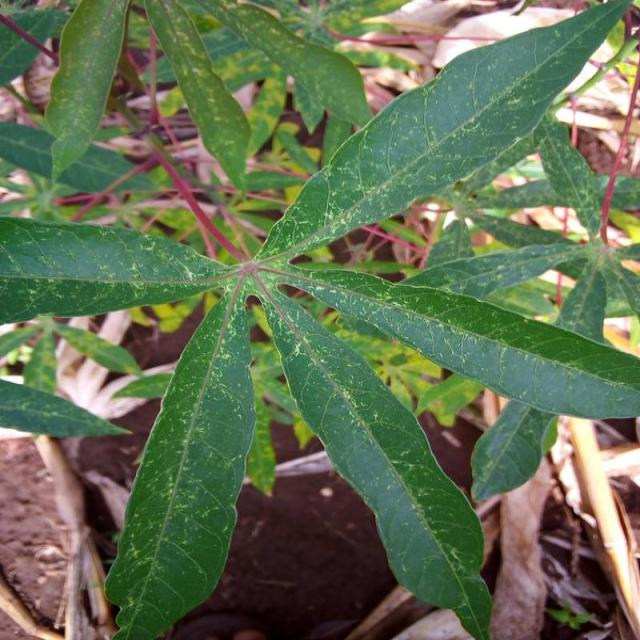cassava leaf: (0, 0, 638, 638), (253, 0, 632, 267), (251, 275, 494, 638), (102, 286, 257, 638)
